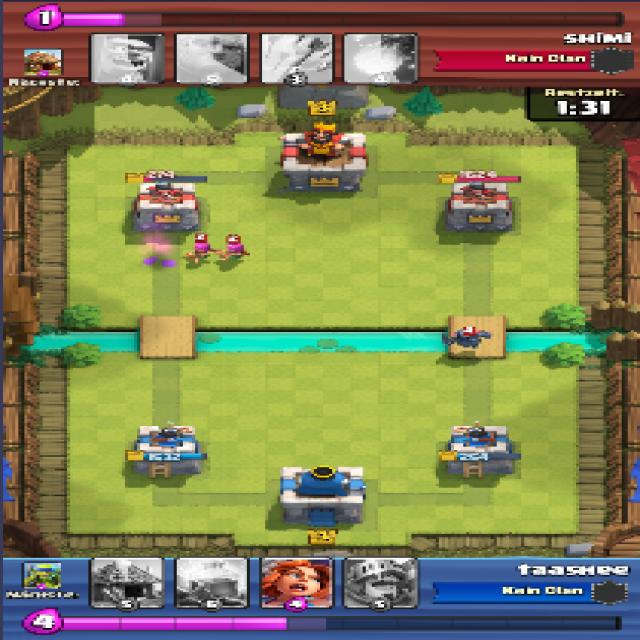Enemy-Archer: (182, 240, 213, 264), (214, 241, 248, 262)
Enemy-MiniPEKKA: (439, 328, 493, 349)
